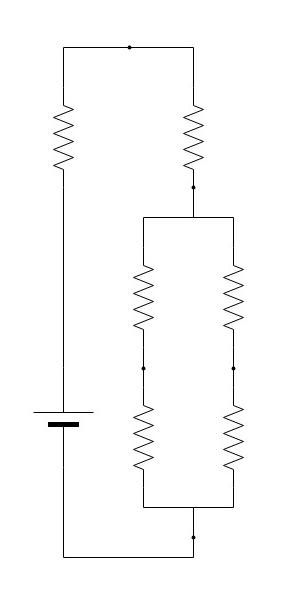resistor: (168, 81, 228, 181), (215, 382, 260, 497), (213, 231, 260, 336), (37, 91, 85, 183), (118, 243, 168, 331), (123, 392, 162, 499)
